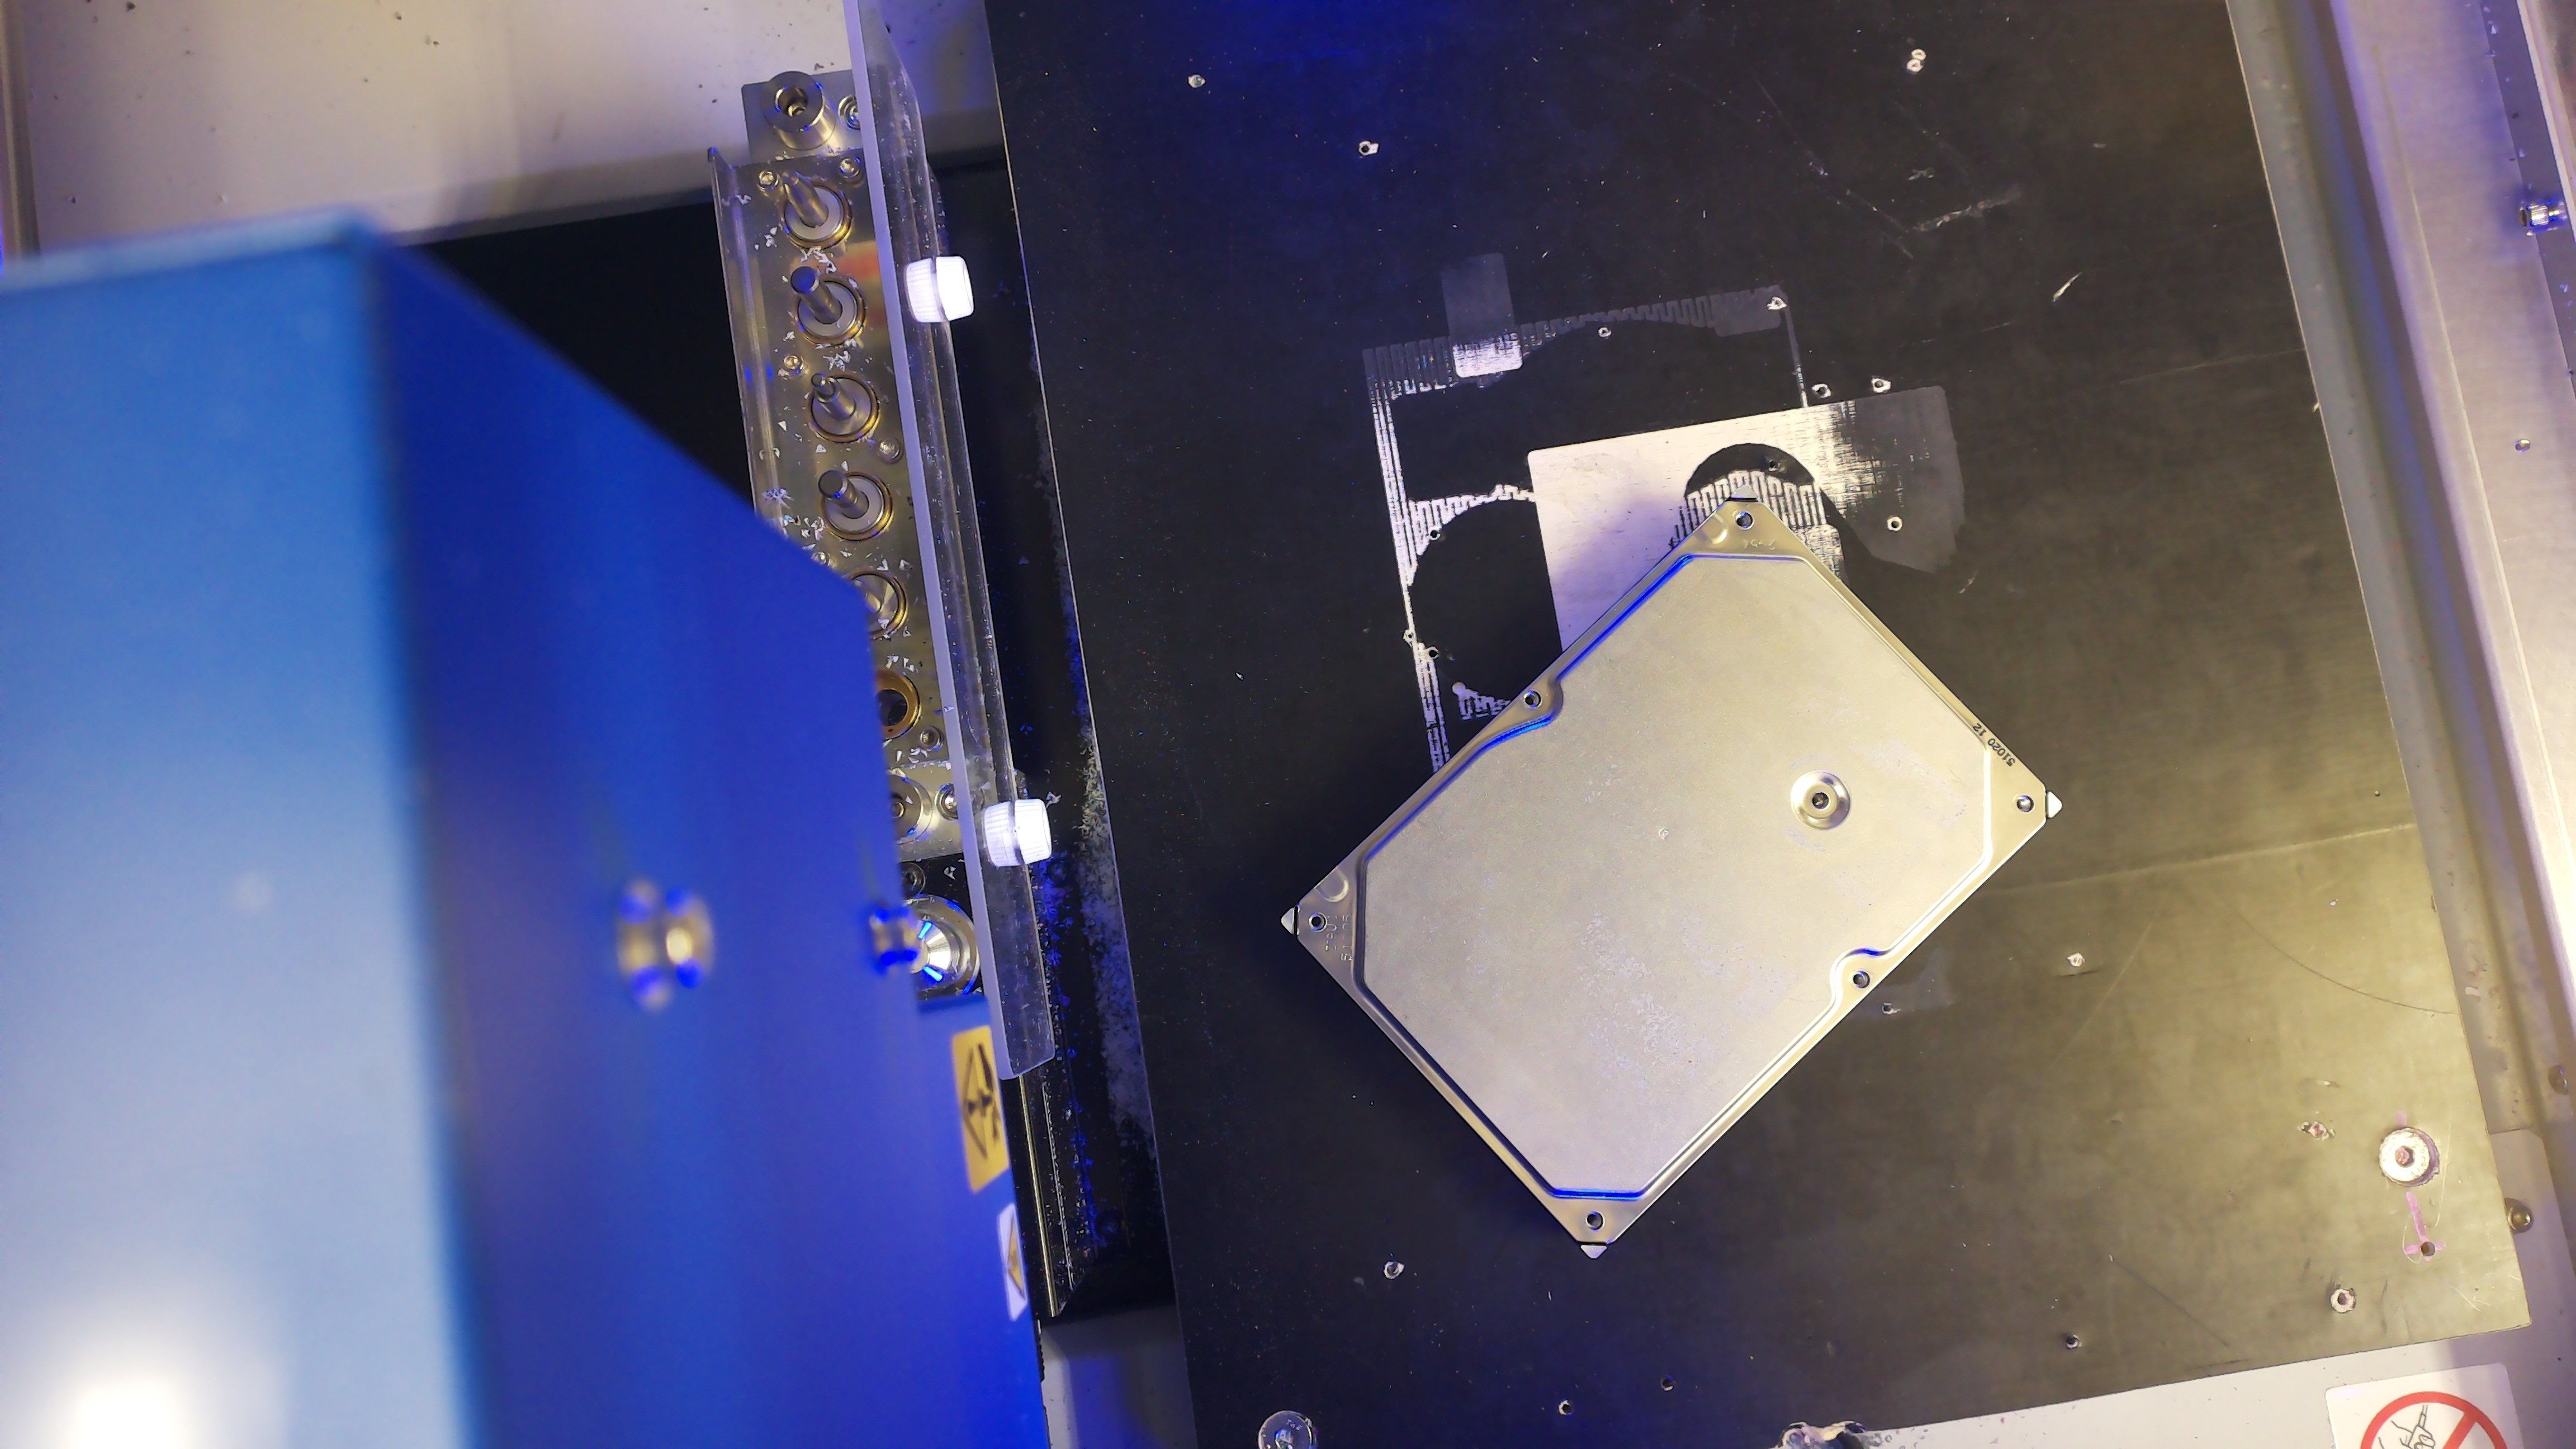Hole: (1851, 968, 1872, 991), (1583, 1210, 1605, 1231), (1810, 789, 1831, 810), (1732, 510, 1755, 529), (1307, 911, 1327, 932), (2015, 794, 2035, 814), (1523, 690, 1541, 708)
